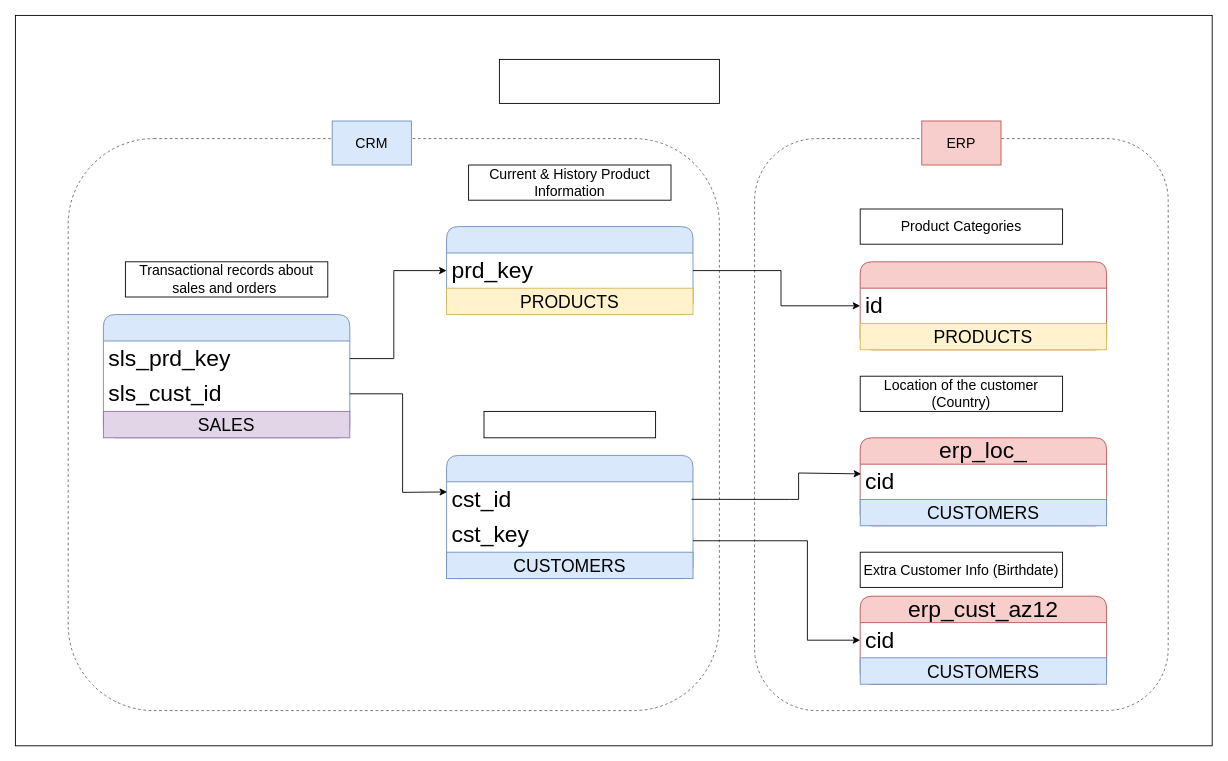
Some shapes in this 1228 by 761 pixel diagram are drawn without their labels. The box of each missing label's shape, as (x1, y1, x2, y2) in pixels:
crm_cust_info: (446, 455, 693, 579)
crm_prd_info: (446, 226, 693, 315)
crm_sales_details: (103, 314, 350, 438)
Customer Information: (483, 411, 656, 438)
erp_px_cat_g1v2: (859, 261, 1107, 350)
Integration Model: (499, 59, 719, 103)
